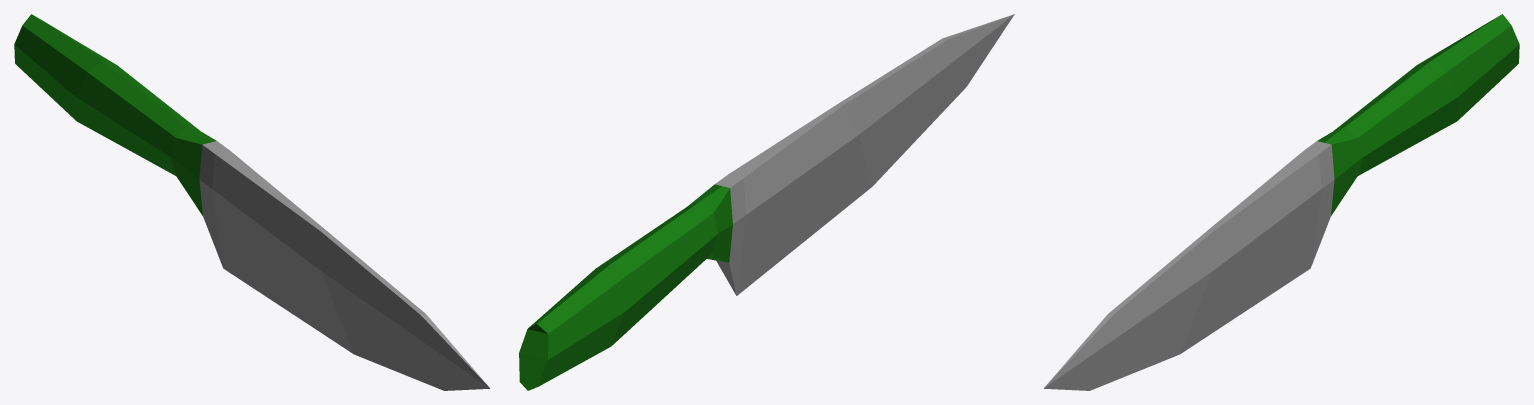
File: knife_7.fbx
3 views of the same model, side by side, from view 1: azimuth 30°, elevation 25°; view 2: azimuth 150°, elevation 25°; view 3: azimuth 330°, elevation 25° (orthographic). The views are drawn at different scales.
Parts seen in each view (by area): view 1: knife_7; view 2: knife_7; view 3: knife_7.
Part boxes in pixels (x1,y1,x2,y2): knife_7: (14, 14, 489, 390); knife_7: (519, 14, 1014, 390); knife_7: (1044, 14, 1519, 390).
Bounding box in the file's own units: 2.76 × 7.78 × 55.21.
1 material, 1 textured.
